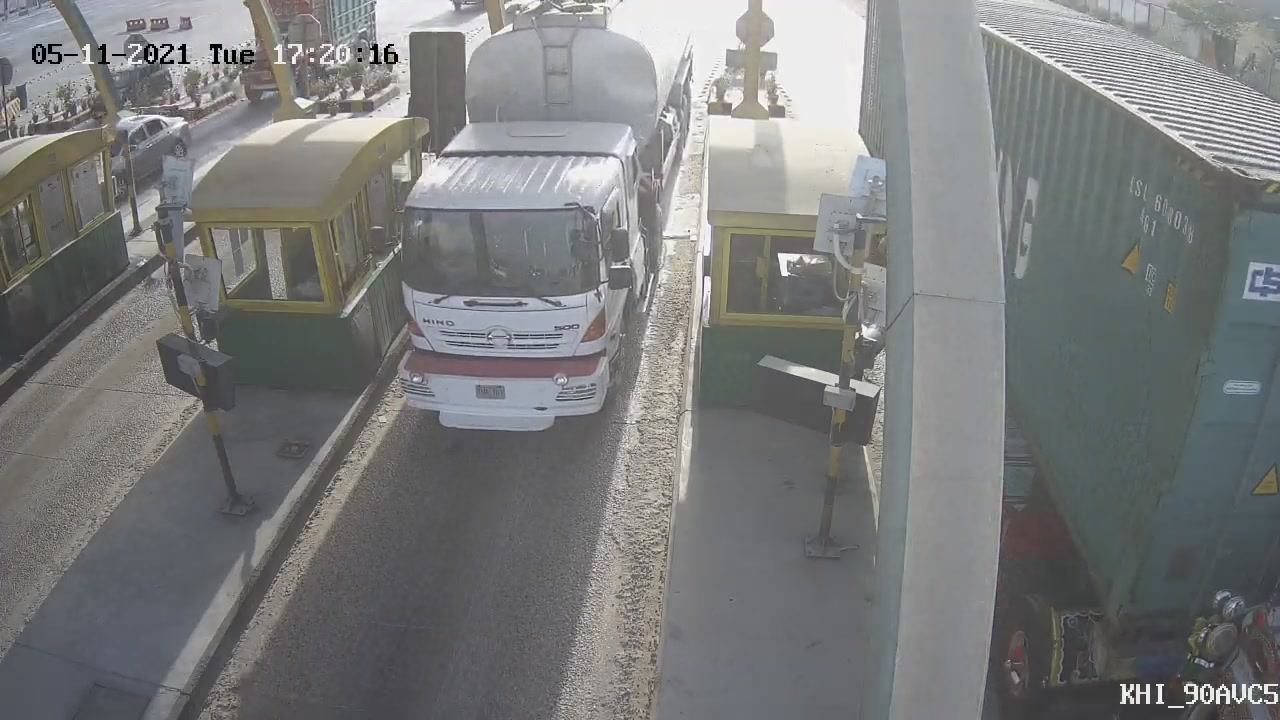F6: (350, 1, 707, 464)
